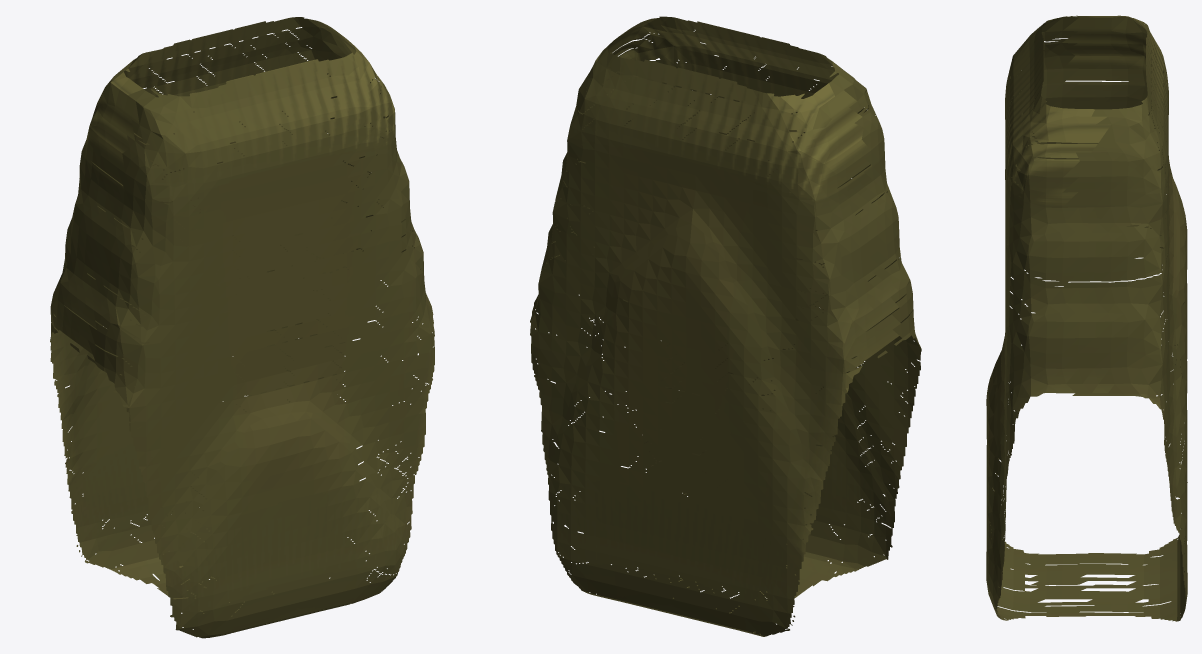
3 renders of one model, left to right at view 1: azimuth 30°, elevation 25°; view 2: azimuth 150°, elevation 25°; view 3: azimuth 270°, elevation 25°, orthographic. The views are drawn at different scales.
Parts seen in each view (by area): view 1: reconstruction; view 2: reconstruction; view 3: reconstruction.
Part boxes in pixels (<box>): reconstruction: <box>50,17,434,638</box>; reconstruction: <box>530,16,921,636</box>; reconstruction: <box>986,15,1187,621</box>.
Bounding box in the file's own units: 0.7766 × 1 × 0.3404.
Materials: 1 (1 with a texture image).
